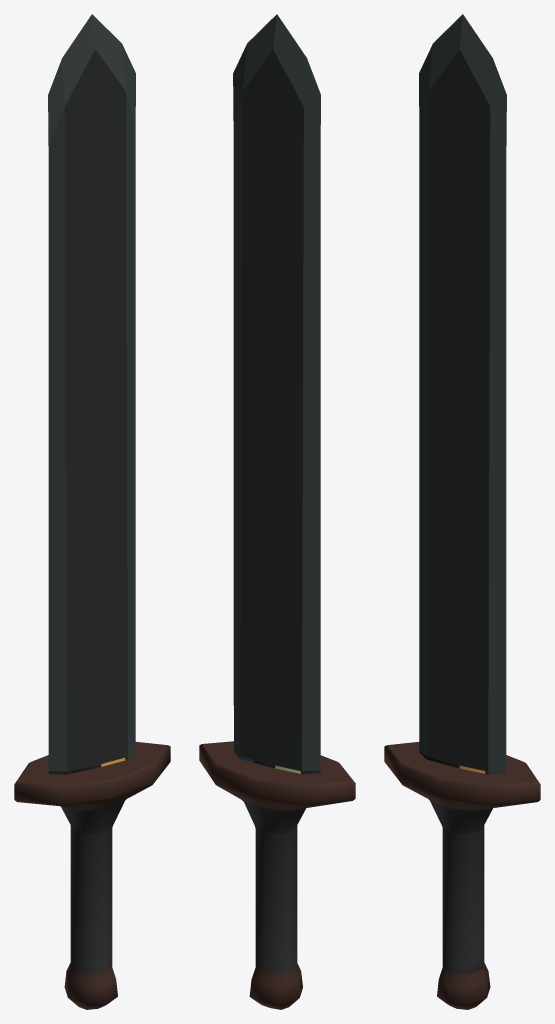
Rendered from Sword_Test.fbx.
3 views of the same model, side by side, from view 1: azimuth 30°, elevation 25°; view 2: azimuth 150°, elevation 25°; view 3: azimuth 330°, elevation 25° (orthographic).
Visible parts, largest first — view 1: Sword; view 2: Sword; view 3: Sword.
Boxes of the visible parts, left/top/right/bottom form: Sword: left=14, top=14, right=170, bottom=1009; Sword: left=199, top=14, right=355, bottom=1009; Sword: left=384, top=14, right=540, bottom=1009.
Size of the model in its own units: 120 by 726 by 61.99.
